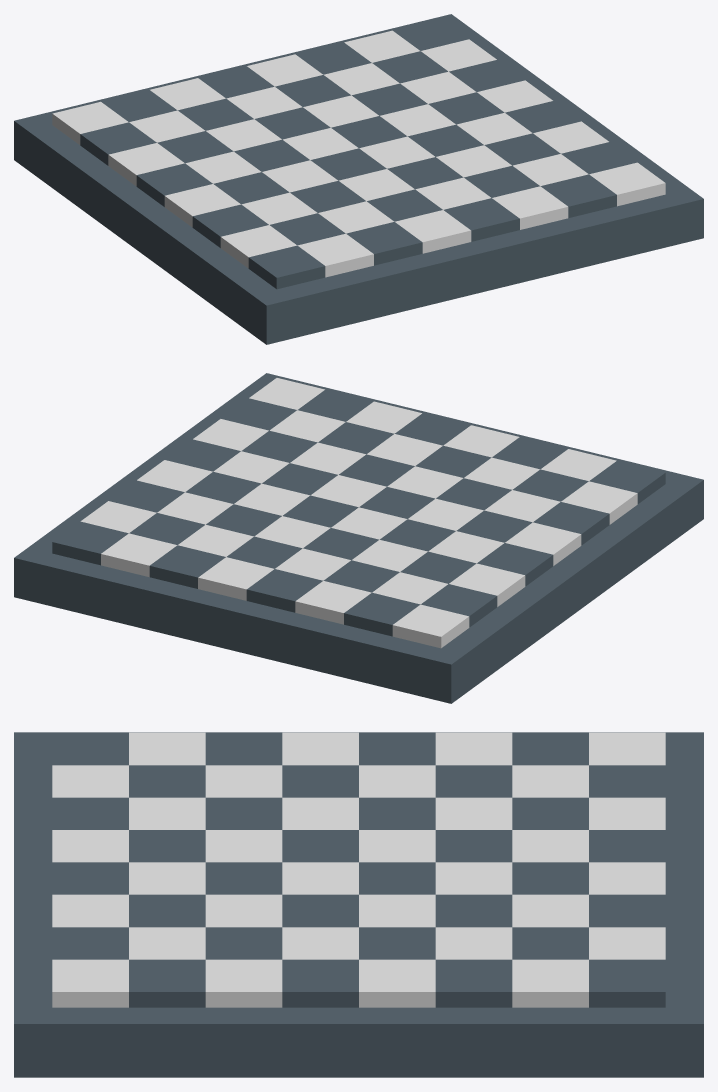
Rendered from chess.fbx.
3 renders of one model, top to bottom at view 1: azimuth 30°, elevation 25°; view 2: azimuth 150°, elevation 25°; view 3: azimuth 270°, elevation 25°, orthographic. The views are drawn at different scales.
Parts seen in each view (by area): view 1: Cube, Cube.001; view 2: Cube, Cube.001; view 3: Cube, Cube.001.
Part boxes in pixels (x1,y1,x2,y2): Cube: (52,19,665,289); Cube.001: (14,14,703,344); Cube: (52,378,665,648); Cube.001: (14,373,703,703); Cube: (52,732,665,1007); Cube.001: (14,732,703,1077).
Size of the model in its own units: 1800 by 200 by 1800.
